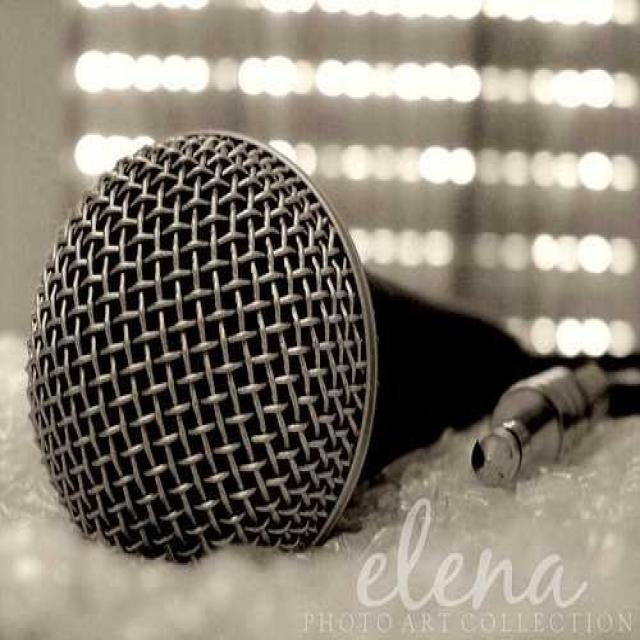microphone: (28, 137, 371, 559)
